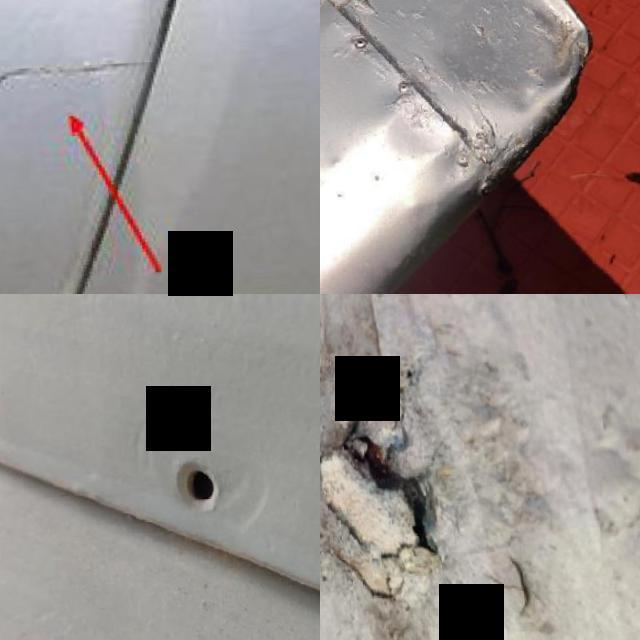Crack: (320, 382, 468, 616), (0, 52, 139, 108)
Dent: (451, 0, 620, 125)
Missing_Fastener: (143, 432, 244, 531)
